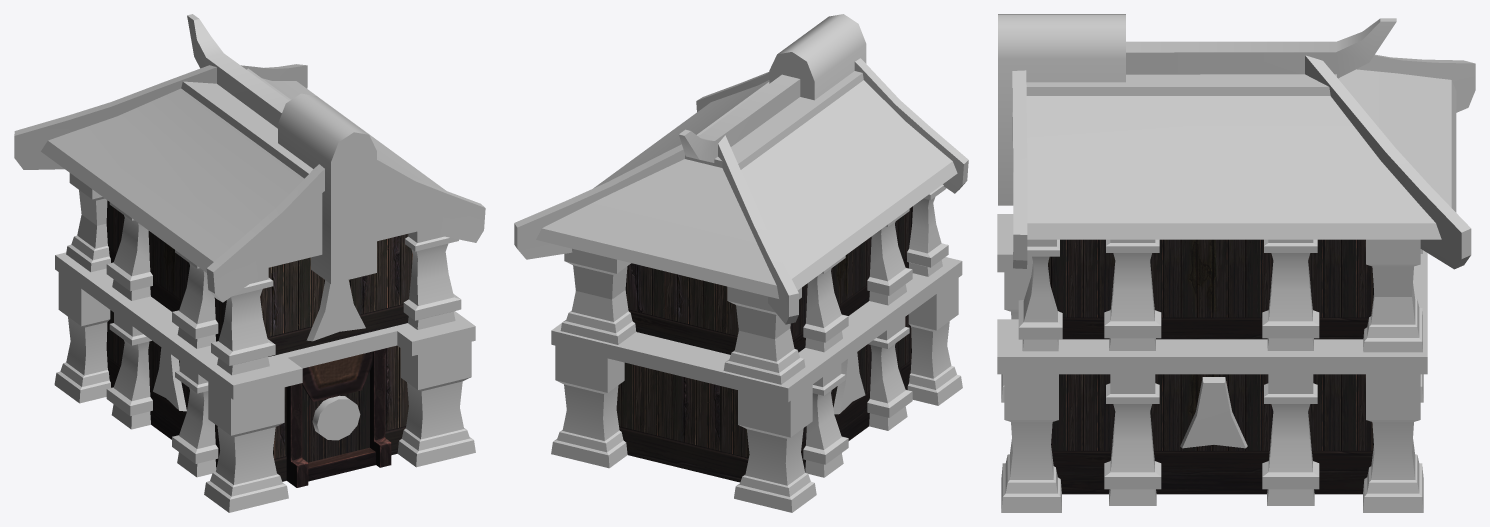
The model's file is SV_BUD_desert_guiwu1_0.FBX.
3 renders of one model, left to right at view 1: azimuth 30°, elevation 25°; view 2: azimuth 150°, elevation 25°; view 3: azimuth 270°, elevation 25°, orthographic. The views are drawn at different scales.
Visible parts, largest first — view 1: SV_BUD_desert_guiwu1_0_zawu, SV_BUD_desert_guiwu1_0_wuding, SV_BUD_desert_guiwu1_0_qiangmian; view 2: SV_BUD_desert_guiwu1_0_zawu, SV_BUD_desert_guiwu1_0_wuding, SV_BUD_desert_guiwu1_0_qiangmian; view 3: SV_BUD_desert_guiwu1_0_wuding, SV_BUD_desert_guiwu1_0_zawu, SV_BUD_desert_guiwu1_0_qiangmian.
Part boxes in pixels (bbox=[...]): SV_BUD_desert_guiwu1_0_zawu: bbox=[54, 93, 475, 512]; SV_BUD_desert_guiwu1_0_wuding: bbox=[14, 14, 485, 302]; SV_BUD_desert_guiwu1_0_qiangmian: bbox=[106, 200, 412, 487]; SV_BUD_desert_guiwu1_0_zawu: bbox=[551, 14, 962, 512]; SV_BUD_desert_guiwu1_0_wuding: bbox=[514, 58, 968, 324]; SV_BUD_desert_guiwu1_0_qiangmian: bbox=[616, 206, 912, 482]; SV_BUD_desert_guiwu1_0_wuding: bbox=[1012, 18, 1475, 269]; SV_BUD_desert_guiwu1_0_zawu: bbox=[997, 14, 1427, 512]; SV_BUD_desert_guiwu1_0_qiangmian: bbox=[1048, 239, 1373, 494].
Bounding box in the file's own units: 7.62 × 8.76 × 8.94.
